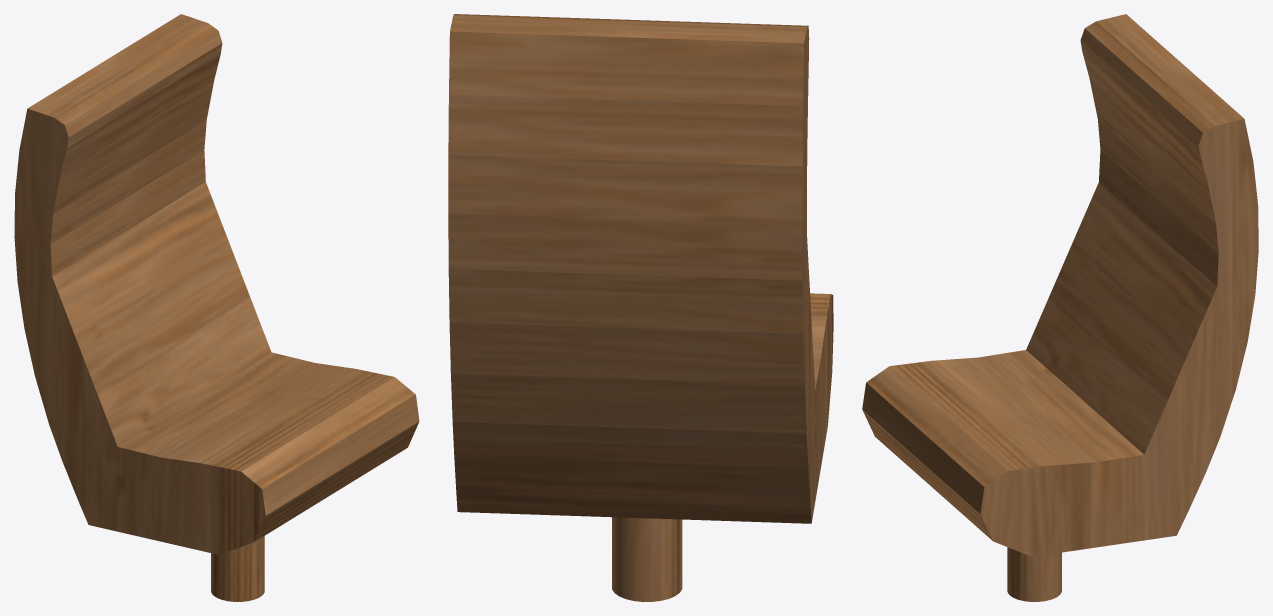
The model's file is Chair02.glb.
3 views of the same model, side by side, from view 1: azimuth 30°, elevation 25°; view 2: azimuth 150°, elevation 25°; view 3: azimuth 270°, elevation 25° (orthographic). The views are drawn at different scales.
Visible parts, largest first — view 1: Geom3D_.435, Geom3D_.436; view 2: Geom3D_.435, Geom3D_.436; view 3: Geom3D_.435, Geom3D_.436.
Part boxes in pixels (x1,y1,x2,y2): Geom3D_.435: (14,14,419,554); Geom3D_.436: (211,536,264,601); Geom3D_.435: (448,14,833,523); Geom3D_.436: (612,517,682,601); Geom3D_.435: (862,14,1258,556); Geom3D_.436: (1007,547,1061,601).
Bounding box in the file's own units: 0.6929 × 0.9938 × 0.7218.
1 material, 1 textured.
